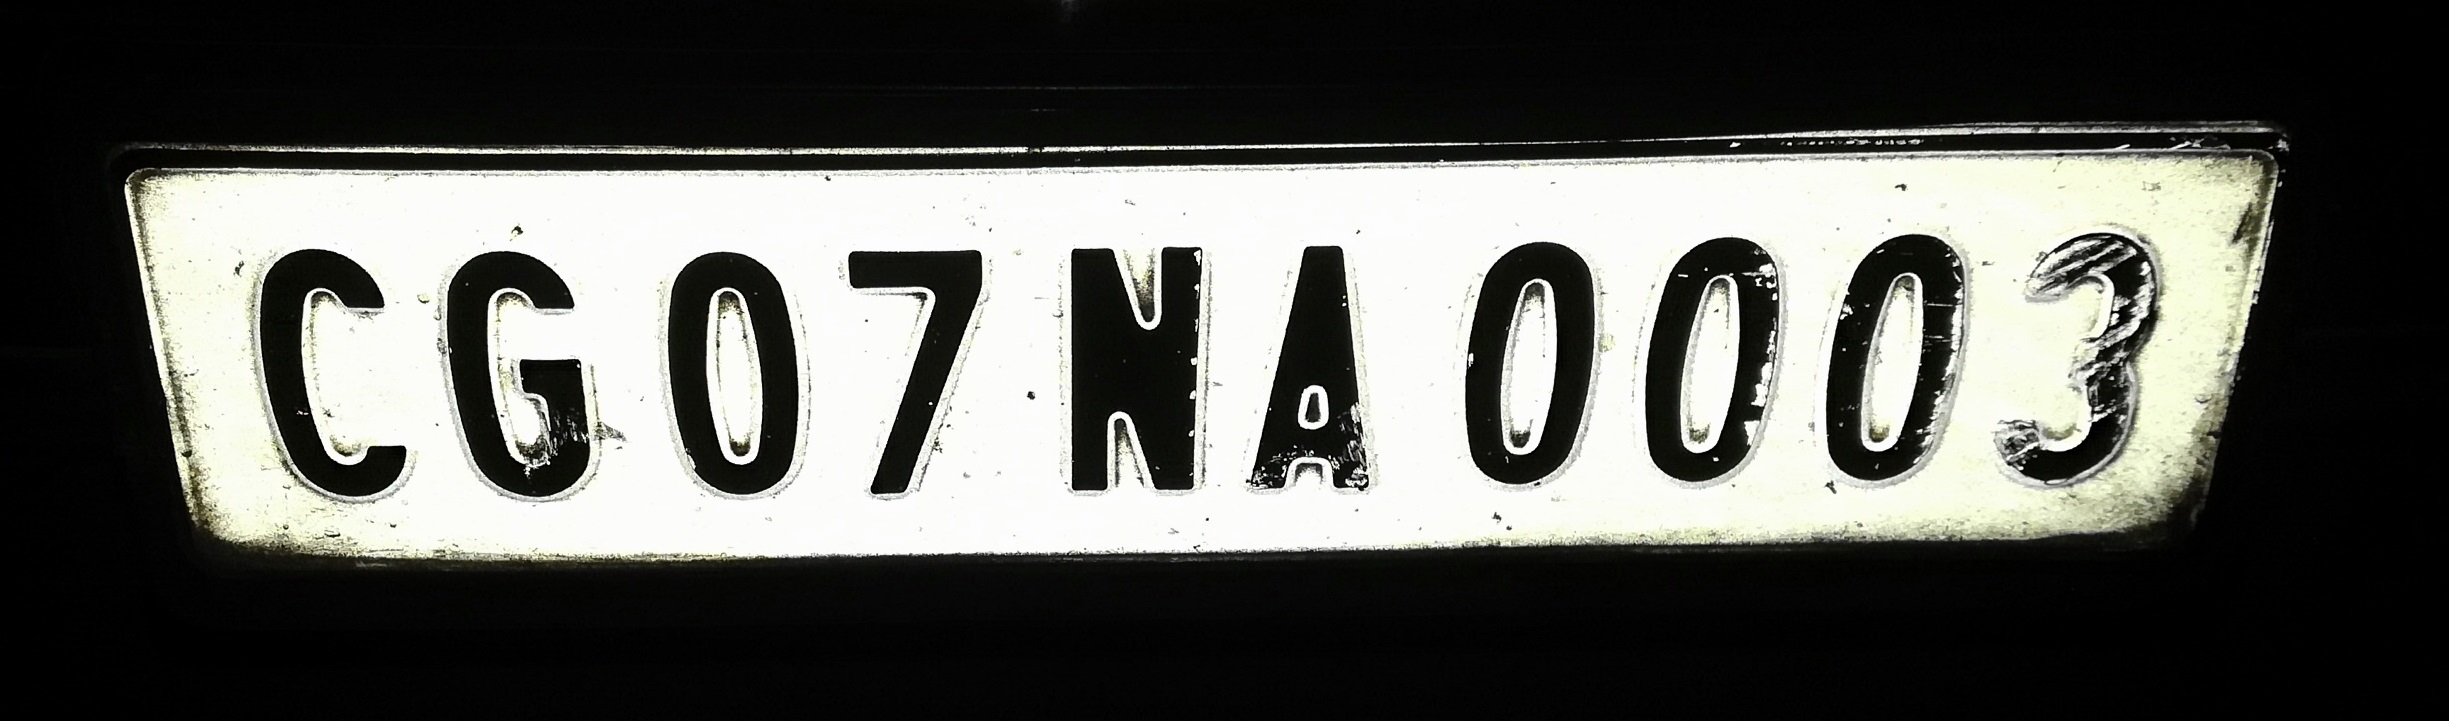numberplate: (90, 119, 2287, 574)
